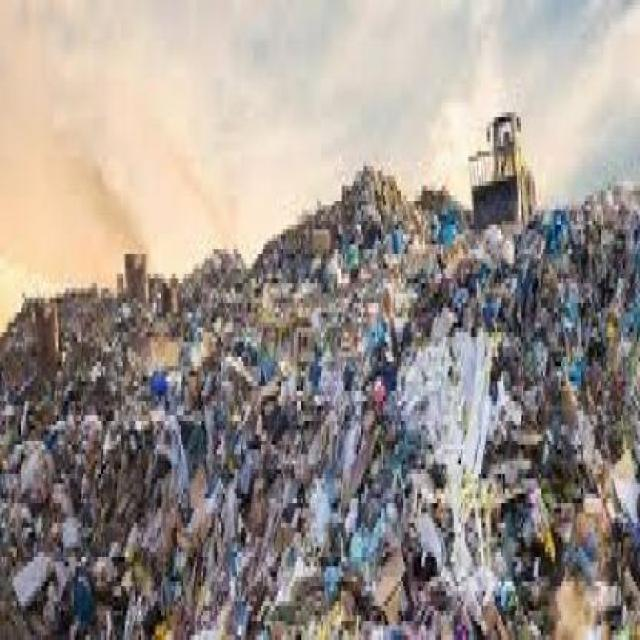garbage: (2, 196, 639, 616)
